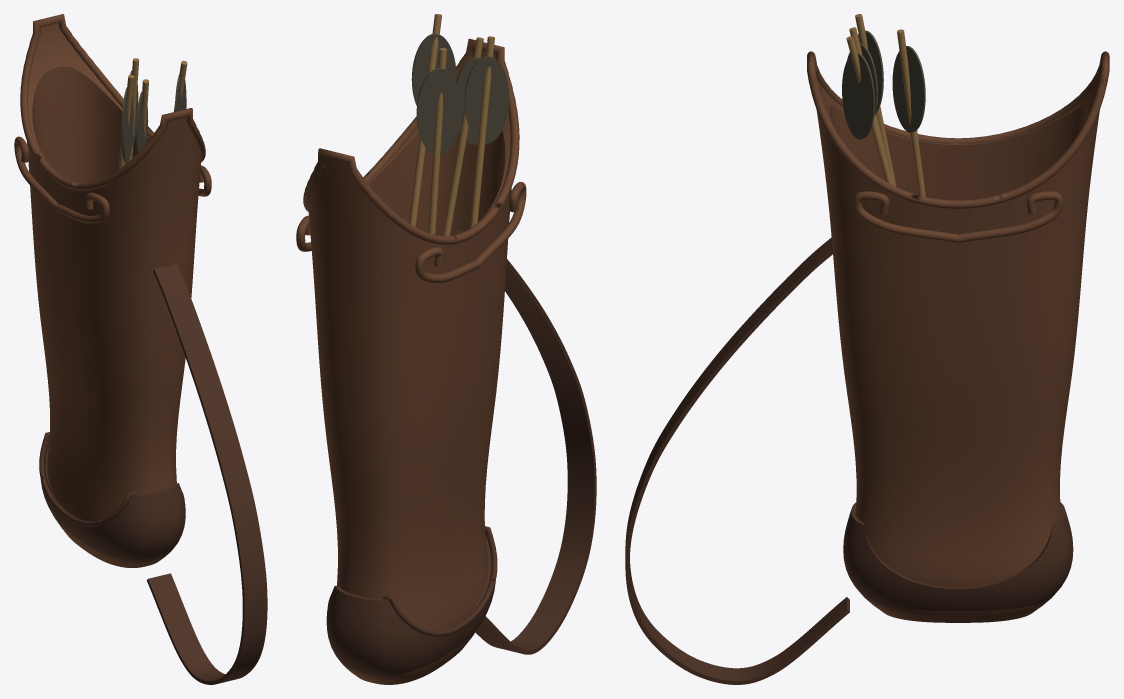
Rendered from hip_quiver.glb.
3 renders of one model, left to right at view 1: azimuth 30°, elevation 25°; view 2: azimuth 150°, elevation 25°; view 3: azimuth 270°, elevation 25°, orthographic. The views are drawn at different scales.
Visible parts, largest first — view 1: body_blank, strap, cuff, feather, feather.003; view 2: body_blank, strap, cuff, feather.001, feather, shaft, feather.002, shaft.001, shaft.003, shaft.002, feather.003; view 3: body_blank, cuff, strap, feather.002, feather.001, shaft.001, shaft.002.
Boxes of the visible parts, <box> form: body_blank: <box>14,14,211,567</box>; strap: <box>147,263,267,684</box>; cuff: <box>39,432,185,559</box>; feather: <box>121,87,133,162</box>; feather.003: <box>136,91,148,153</box>; body_blank: <box>296,38,526,684</box>; strap: <box>455,229,596,654</box>; cuff: <box>326,526,497,675</box>; feather.001: <box>416,68,461,154</box>; feather: <box>464,56,509,143</box>; shaft: <box>470,36,494,228</box>; feather.002: <box>411,33,456,105</box>; shaft.001: <box>428,48,446,234</box>; shaft.003: <box>442,37,483,236</box>; shaft.002: <box>409,14,441,226</box>; feather.003: <box>456,57,480,144</box>; body_blank: <box>807,51,1109,622</box>; cuff: <box>843,502,1073,610</box>; strap: <box>625,237,849,684</box>; feather.002: <box>842,53,875,139</box>; feather.001: <box>892,46,925,132</box>; shaft.001: <box>897,29,925,196</box>; shaft.002: <box>846,36,893,185</box>.
Bounding box in the file's own units: 0.1092 × 0.5011 × 0.3351.
